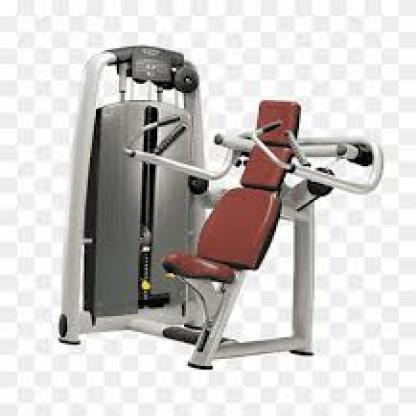shoulder press machine: (50, 38, 390, 379)
